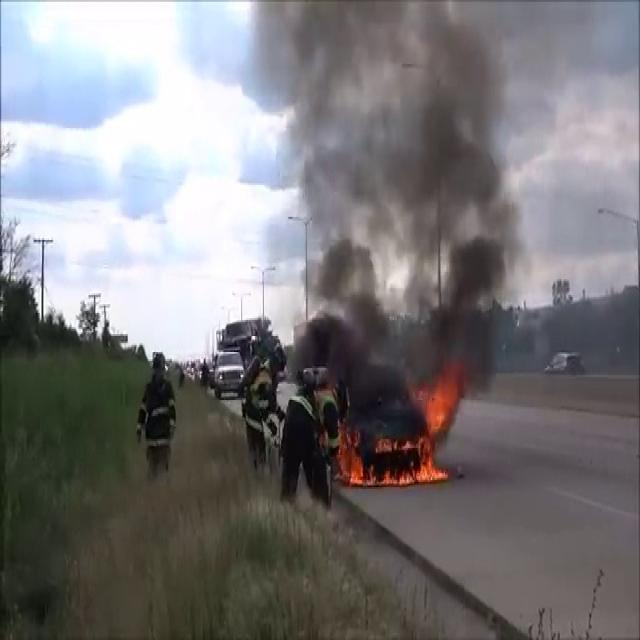Fire: (338, 374, 464, 490)
Smoke: (274, 0, 562, 379)
